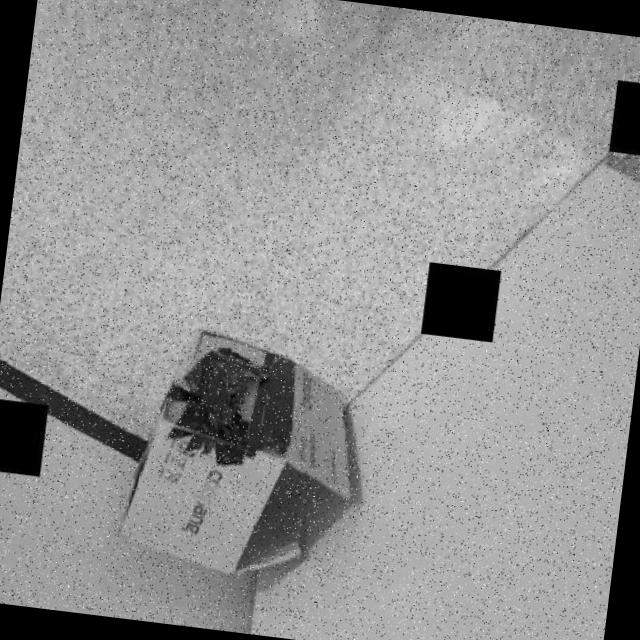box: (96, 298, 382, 624)
